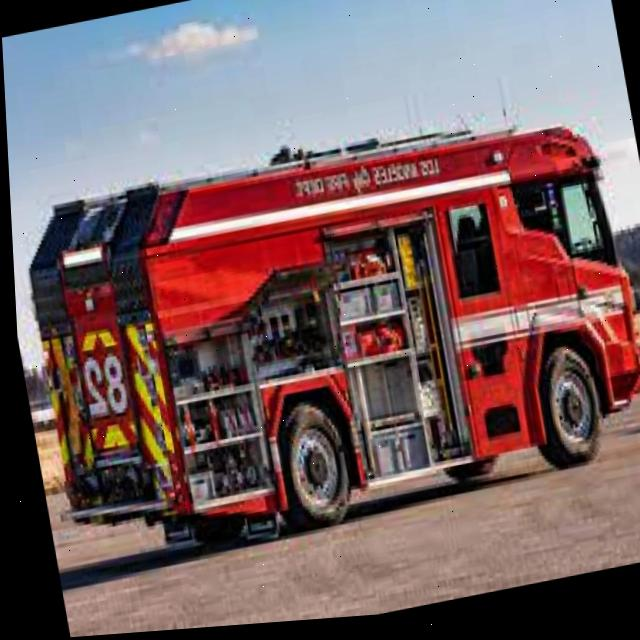emergency: (13, 96, 640, 572)
